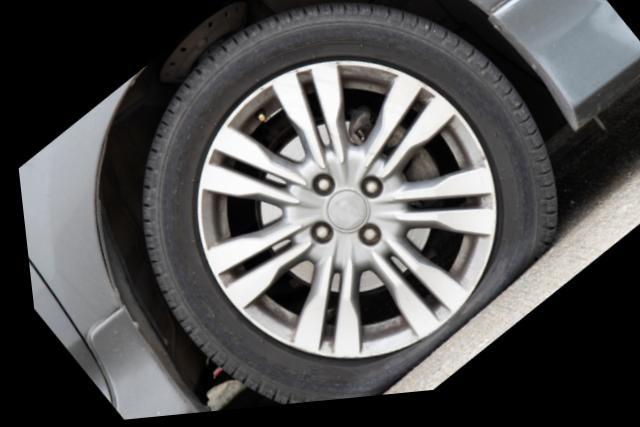tire flat: (135, 6, 550, 408)
